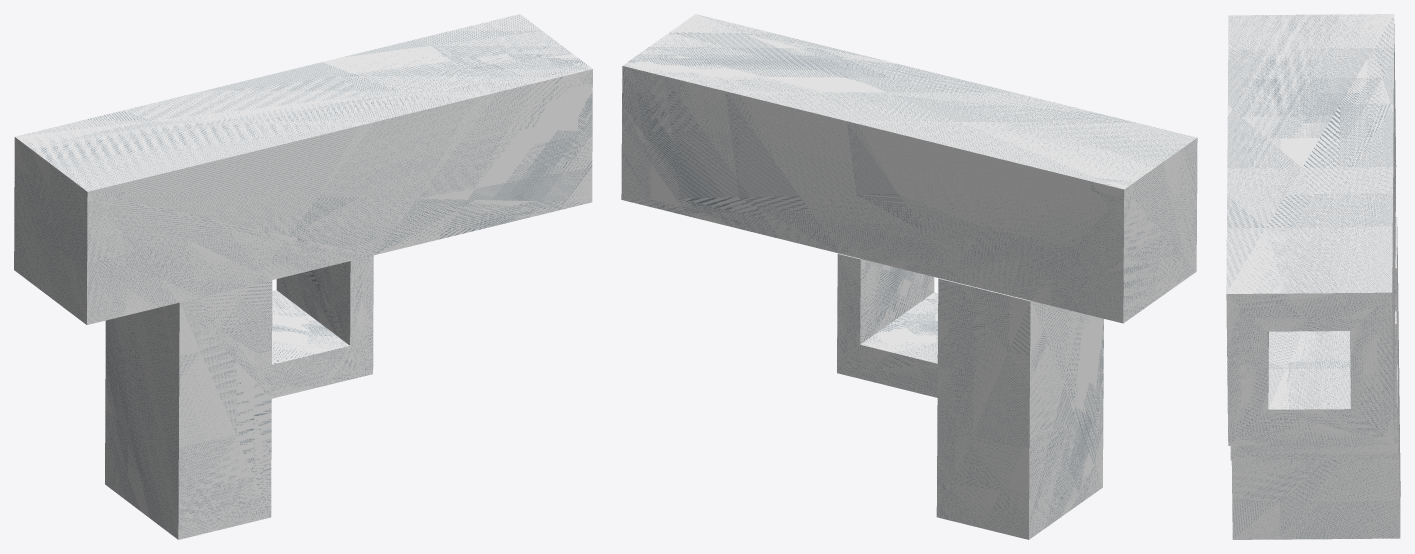
Rendered from gun.dae.
3 renders of one model, left to right at view 1: azimuth 30°, elevation 25°; view 2: azimuth 150°, elevation 25°; view 3: azimuth 270°, elevation 25°, orthographic. The views are drawn at different scales.
Visible parts, largest first — view 1: SketchUp; view 2: SketchUp; view 3: SketchUp (×2).
Boxes of the visible parts, left/top/right/bottom form: SketchUp: left=14, top=14, right=592, bottom=539; SketchUp: left=621, top=14, right=1197, bottom=539; SketchUp (×2): left=1226, top=14, right=1400, bottom=539.
Size of the model in its own units: 4.23 by 1.11 by 2.99.
